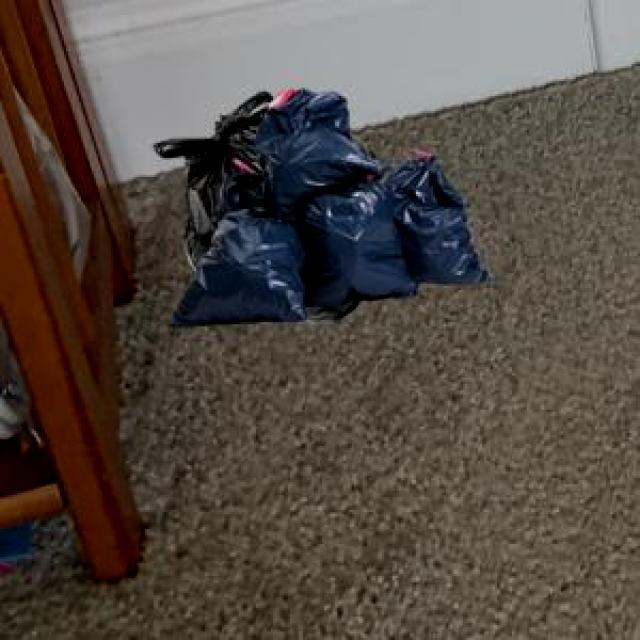Trashbag: (167, 209, 320, 340), (252, 78, 386, 197), (307, 181, 415, 322), (404, 147, 492, 291)
